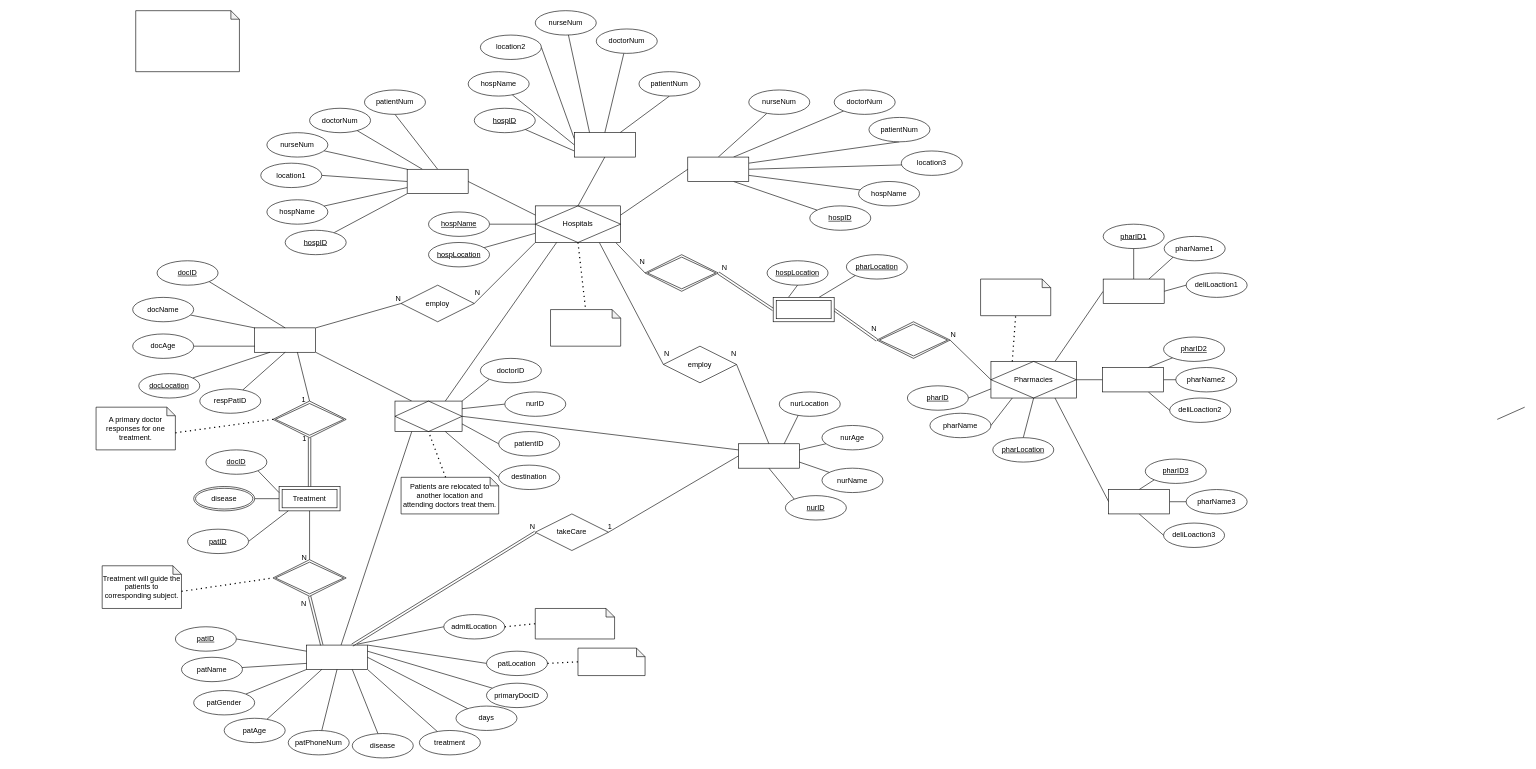
The diagram is 1536 pixels wide and 769 high, and some of its shapes have lost their labels. Here are the shapes that lost their labels. From the top down, the box of each, then its label:
(135, 10, 239, 72): Made by: Xiaorui Zhang Andy Pang Hei Yuen Tang
(574, 132, 635, 157): Hospital2
(407, 169, 468, 194): Hospital1
(687, 156, 749, 181): Hospital3
(644, 254, 718, 291): pay
(1103, 278, 1164, 303): Pharmacy1
(773, 297, 834, 322): drugOrder
(980, 278, 1051, 316): This associative entity represents all three pharmacies.
(254, 327, 316, 352): Doctors
(550, 309, 621, 346): This associative entity represents all three local hospitals.
(876, 321, 950, 358): delivery
(1102, 367, 1164, 392): Pharmacy2
(272, 400, 346, 438): responses
(394, 400, 462, 432): relocate
(738, 443, 799, 468): Nurses
(1108, 489, 1170, 514): Pharmacy3
(272, 559, 346, 596): divides
(535, 608, 615, 639): The location where the patient is admitted.
(306, 644, 368, 669): Patients
(577, 648, 645, 676): The location of the patient now.
